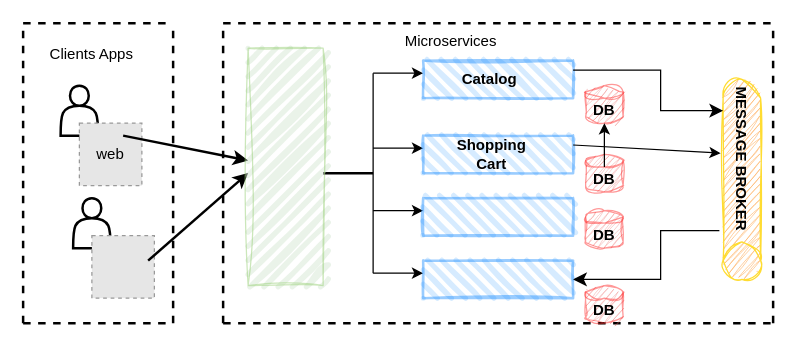
Image size: 796x346. Some labels were removed from this diagram. Grey dashed boxes stand in for pictures. The centre of each missing label's shape, as x and y in pixels:
"API Gateway" belongs at point (285, 166).
"Discount" belongs at point (497, 216).
"Ordering" belongs at point (497, 279).
